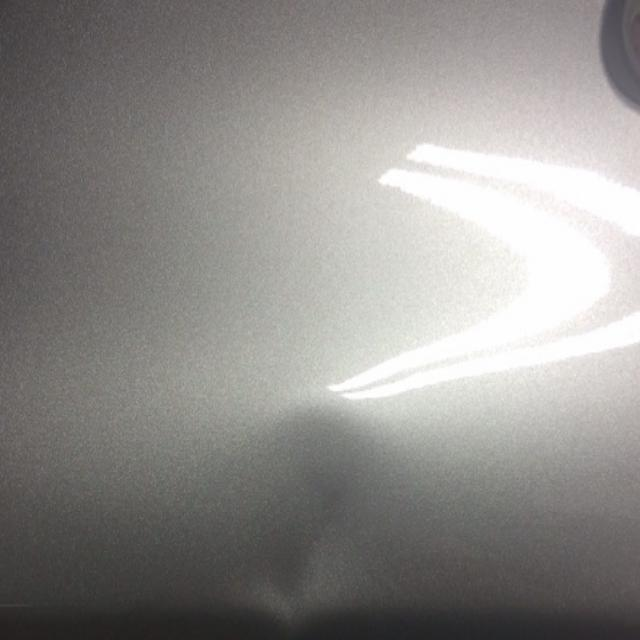dents: (241, 390, 378, 636)
